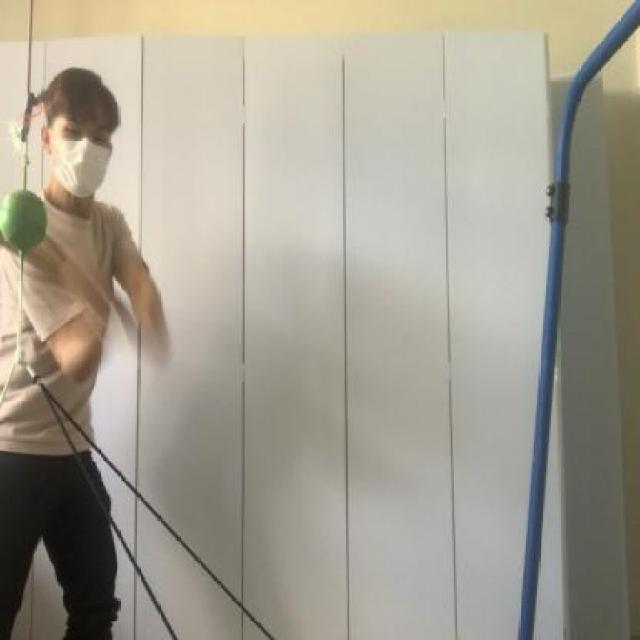baseball: (0, 174, 62, 268)
